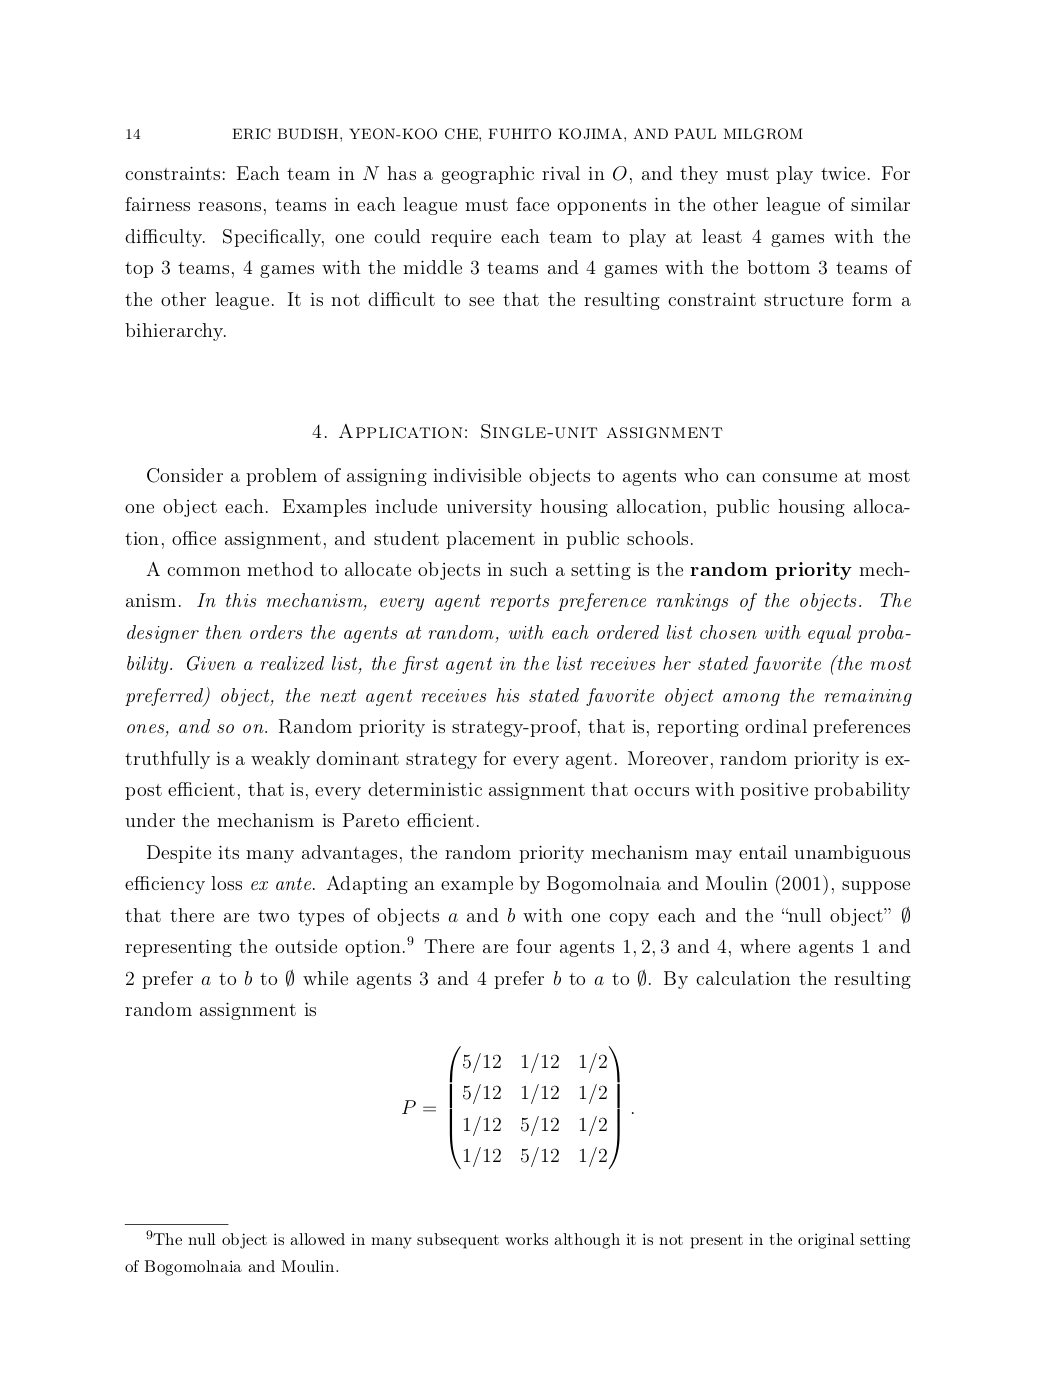formula: (402, 1045, 633, 1170)
